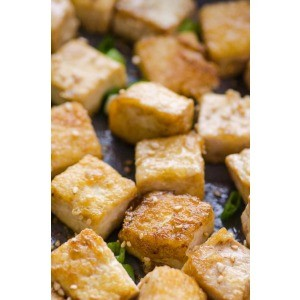tofu_brain food: (80, 74, 228, 267)
